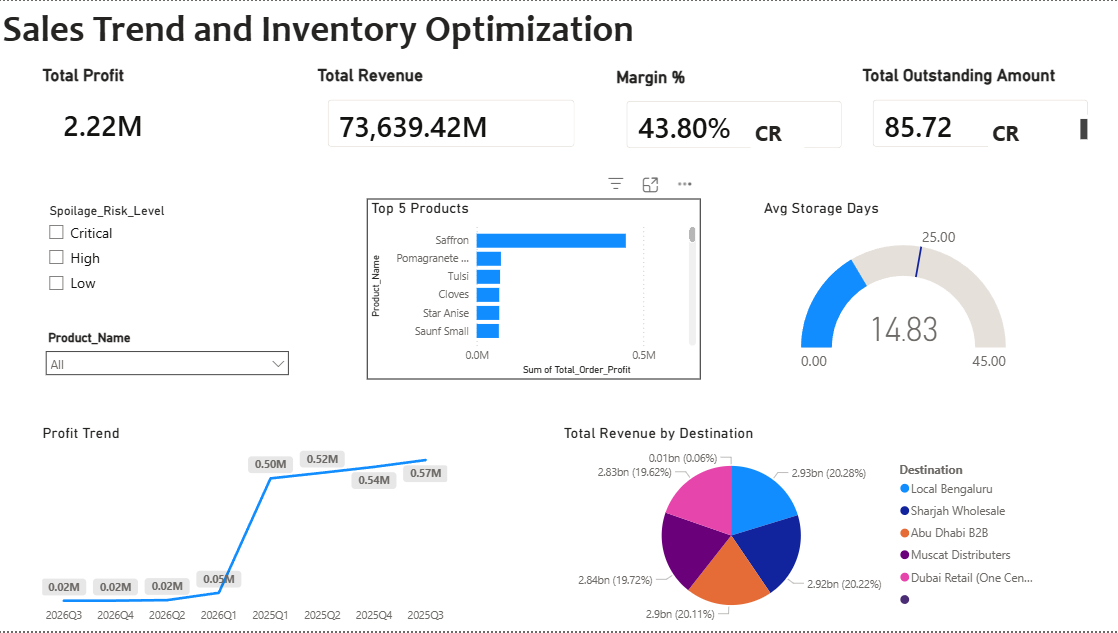

What the dashboard file says about the page in this screenshot:
{"tool":"powerbi","page":{"name":"Banking Loan Dashboard","canvas":[1280,720],"ordinal":0},"visuals":[{"type":"cardVisual","title":"Total Profit","fields":{"Data":["final_model_data.Total Profit"]},"box":[45.3,74.5,280.1,110.1],"z":0},{"type":"cardVisual","title":"Total Revenue","fields":{"Data":["final_model_data.Total Revenue"]},"box":[359.3,74.4,316.3,110.5],"z":1000},{"type":"cardVisual","title":"Total Outstanding Amount","fields":{"Data":["Loan Portfolio.Outstanding (Cr)"]},"box":[982.9,74.5,280.1,110.1],"z":2000},{"type":"cardVisual","title":"Margin %","fields":{"Data":["final_model_data.Margin %"]},"box":[701.2,75.6,280.2,110.5],"z":3000},{"type":"slicer","title":"Loan_Type Distribution","fields":{"Values":["final_model_data.Spoilage_Risk_Level"]},"box":[45.3,225.6,190.7,120.9],"z":4000},{"type":"lineChart","title":"Profit Trend","fields":{"Category":["final_model_data.Fiscal_Quarter"],"Y":["final_model_data.Total Profit"]},"box":[45.7,482.9,472.9,237.1],"z":5000},{"type":"textbox","box":[0,0,1280.8,74.5],"z":10000},{"type":"slicer","fields":{"Values":["final_model_data.Product_Name"]},"box":[45,371.7,298.3,61.7],"z":11000},{"type":"textbox","box":[1131.8,129.5,118.2,37.2],"z":12000},{"type":"textbox","box":[859.8,129.5,61.5,45.3],"z":13000},{"type":"pieChart","fields":{"Y":["final_model_data.Total Revenue"],"Category":["final_model_data.Destination"]},"box":[641.4,482.9,558.6,237.1],"z":13001},{"type":"clusteredBarChart","title":"Top 5 Products","fields":{"Category":["final_model_data.Product_Name"],"Y":["Sum(final_model_data.Total_Order_Profit)"]},"box":[421.4,225.7,381.4,207.1],"z":13002},{"type":"gauge","fields":{"Y":["final_model_data.Avg Storage Days"]},"box":[870,225.7,330,207.1],"z":13003}]}

Visuals, with their boxes in screenshot pixels (x1, y1, x2, y2), scaled from the page's 1280x720 canvas onto the 1118x633 screenshot:
"Total Profit" cardVisual: (x1=40, y1=65, x2=284, y2=162)
"Total Revenue" cardVisual: (x1=314, y1=65, x2=590, y2=163)
"Total Outstanding Amount" cardVisual: (x1=859, y1=65, x2=1103, y2=162)
"Margin %" cardVisual: (x1=612, y1=66, x2=857, y2=164)
"Loan_Type Distribution" slicer: (x1=40, y1=198, x2=206, y2=305)
"Profit Trend" lineChart: (x1=40, y1=425, x2=453, y2=632)
textbox: (x1=0, y1=0, x2=1117, y2=65)
slicer - final_model_data.Product_Name: (x1=39, y1=327, x2=300, y2=381)
textbox: (x1=989, y1=114, x2=1092, y2=147)
textbox: (x1=751, y1=114, x2=805, y2=154)
pieChart - final_model_data.Total Revenue x final_model_data.Destination: (x1=560, y1=425, x2=1048, y2=632)
"Top 5 Products" clusteredBarChart: (x1=368, y1=198, x2=701, y2=381)
gauge - final_model_data.Avg Storage Days: (x1=760, y1=198, x2=1048, y2=381)
